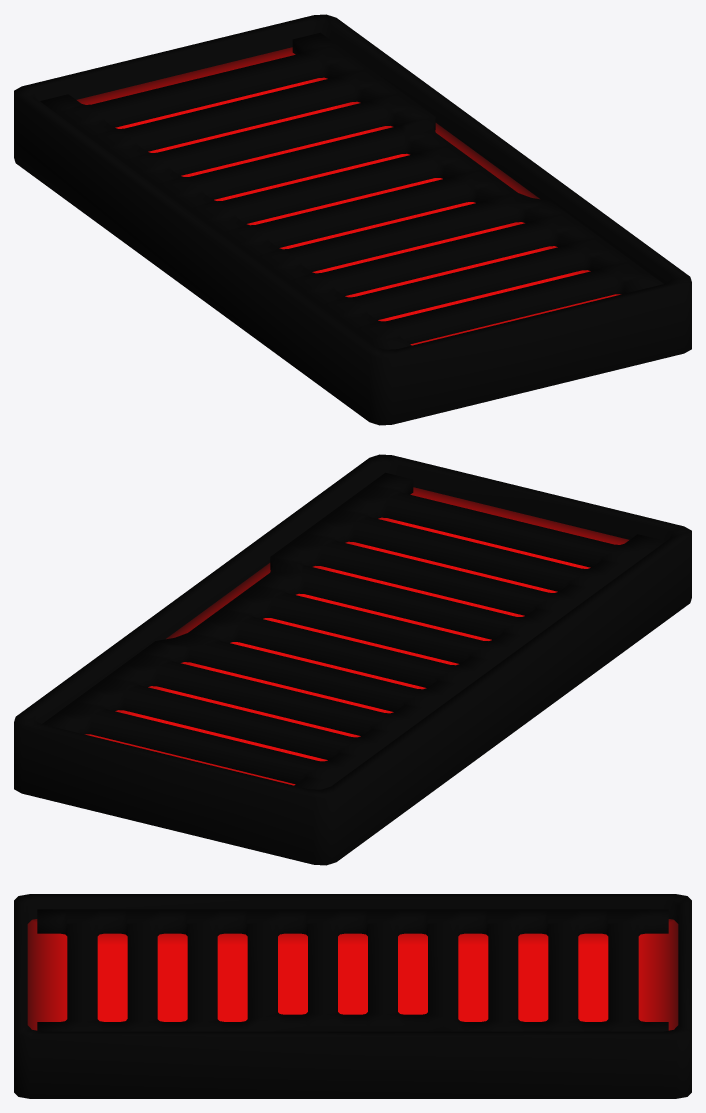
Rendered from sewer_short.fbx.
3 views of the same model, one above another, from view 1: azimuth 30°, elevation 25°; view 2: azimuth 150°, elevation 25°; view 3: azimuth 270°, elevation 25° (orthographic). The views are drawn at different scales.
Visible parts, largest first — view 1: sewer_short; view 2: sewer_short; view 3: sewer_short.
Boxes of the visible parts, bbox=[...] form: sewer_short: bbox=[14, 14, 691, 425]; sewer_short: bbox=[14, 454, 691, 865]; sewer_short: bbox=[14, 894, 691, 1098].
Bounding box in the file's own units: 0.5 × 0.1 × 1.
